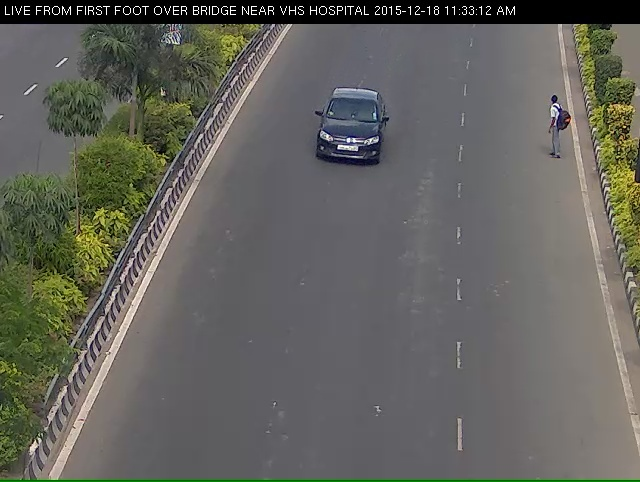Car: (299, 97, 395, 201)
Person: (529, 87, 584, 173)
